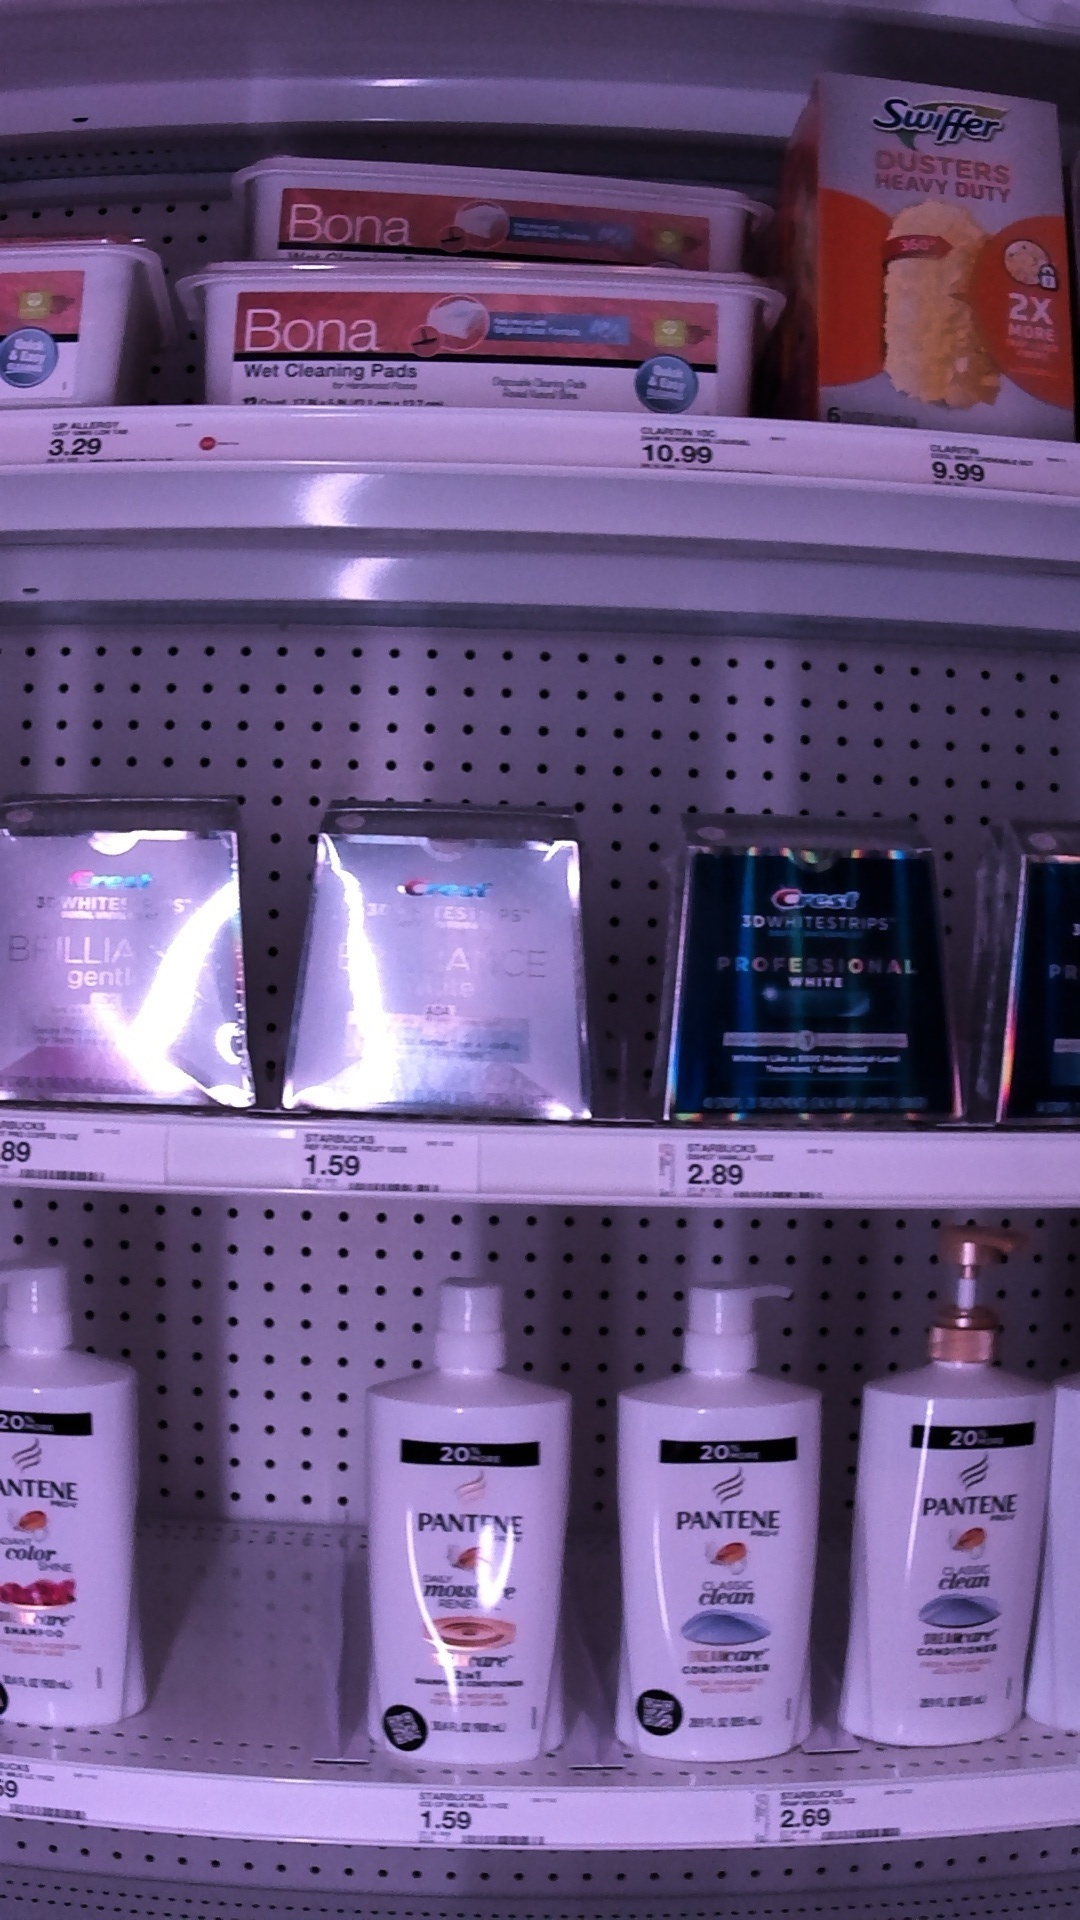ptag: (653, 1120, 843, 1209), (744, 1784, 935, 1857), (301, 1120, 469, 1197), (42, 402, 224, 473), (413, 1784, 568, 1865), (918, 422, 1069, 502), (629, 411, 766, 484), (1, 1120, 138, 1184), (1, 1764, 120, 1822)
